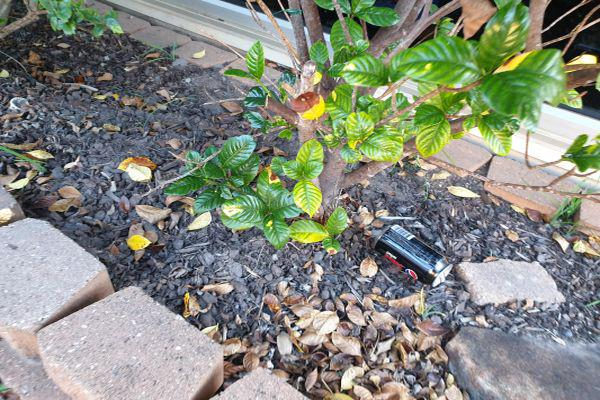Plastic Bottle: (371, 223, 454, 288)
